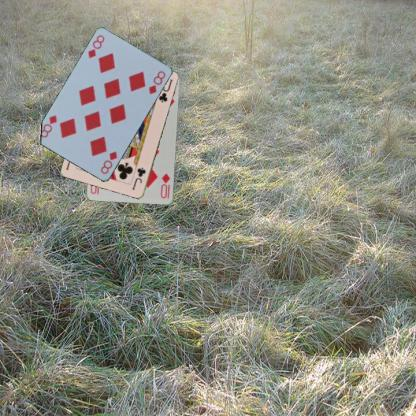10d: (158, 171, 172, 200)
8d: (86, 32, 106, 60), (99, 149, 119, 176)
Jc: (130, 165, 147, 191)
